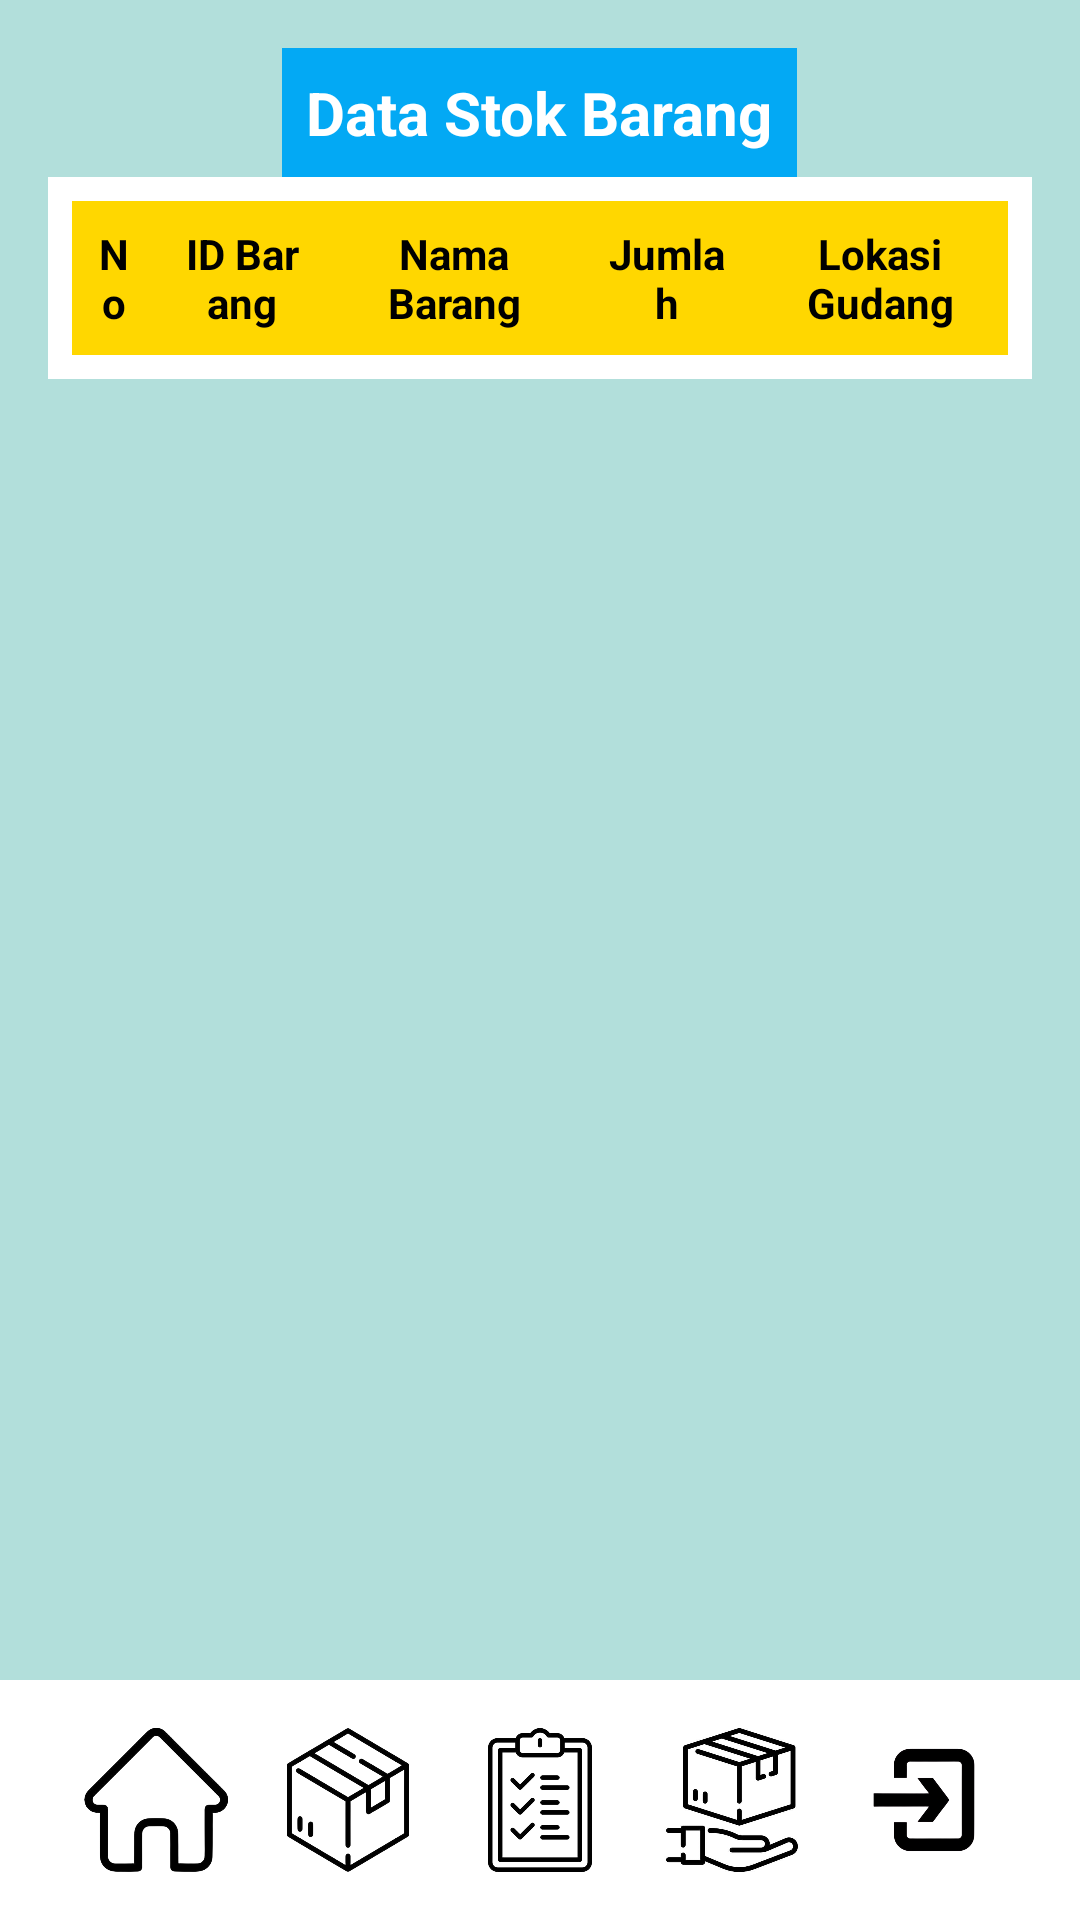

Screen size 1080×1920. Icon name, then its box in pixels as (x1, y1, x2, y2):
beranda: (84, 1728, 228, 1872)
